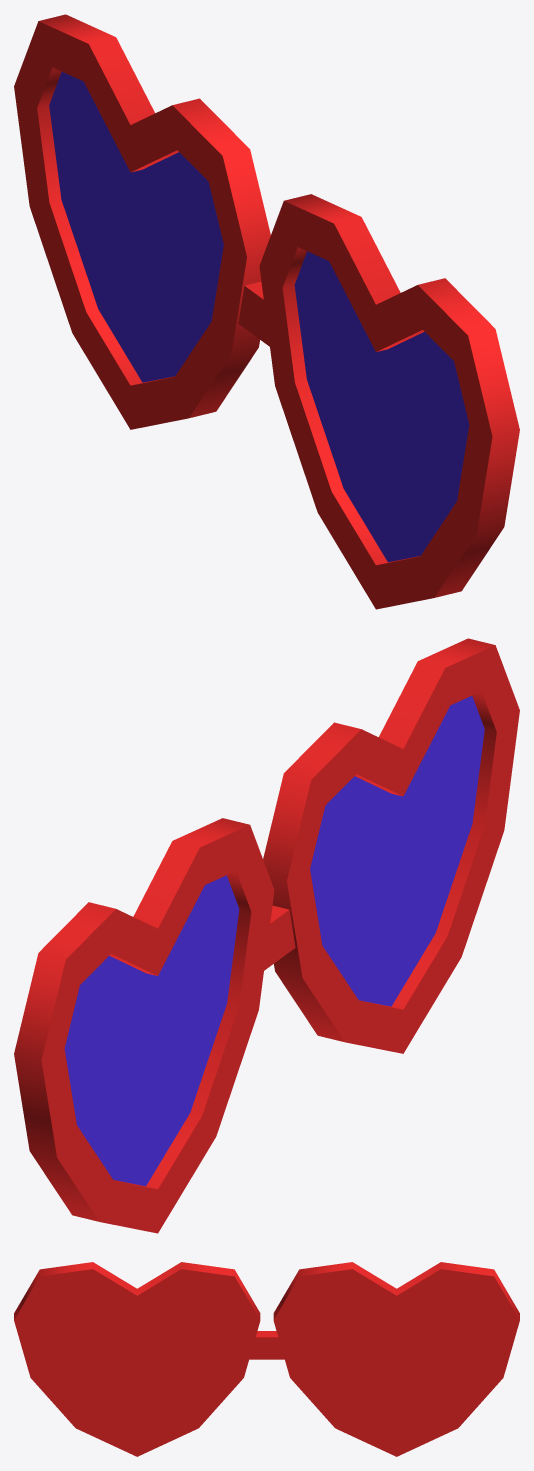
The model's file is Heart Glass.FBX.
The picture shows the model from 3 angles, top to bottom: view 1: azimuth 30°, elevation 25°; view 2: azimuth 150°, elevation 25°; view 3: azimuth 270°, elevation 25°; orthographic projection. The views are drawn at different scales.
Parts seen in each view (by area): view 1: Cylinder147; view 2: Cylinder147; view 3: Cylinder147.
Part boxes in pixels (box(x1,y1,x2,y2)): Cylinder147: box(14, 14, 519, 609); Cylinder147: box(14, 638, 519, 1233); Cylinder147: box(14, 1262, 519, 1456).
Bounding box in the file's own units: 0.042 × 0.5196 × 1.27.
